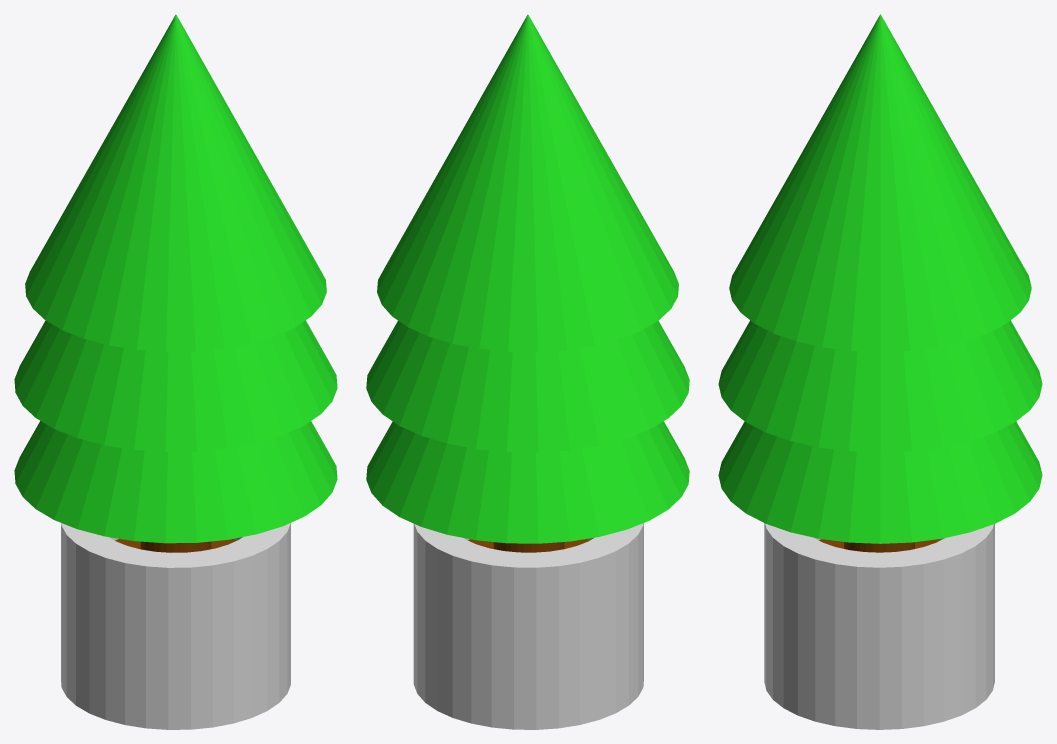
Rendered from macetaDecorativaNORota.fbx.
The picture shows the model from 3 angles, left to right: view 1: azimuth 30°, elevation 25°; view 2: azimuth 150°, elevation 25°; view 3: azimuth 270°, elevation 25°; orthographic projection.
Parts seen in each view (by area): view 1: Cilindro; view 2: Cilindro; view 3: Cilindro.
Boxes of the visible parts, <box> form: Cilindro: <box>14,14,337,729</box>; Cilindro: <box>366,14,689,729</box>; Cilindro: <box>718,14,1042,729</box>.
Bounding box in the file's own units: 111 × 253 × 111.
